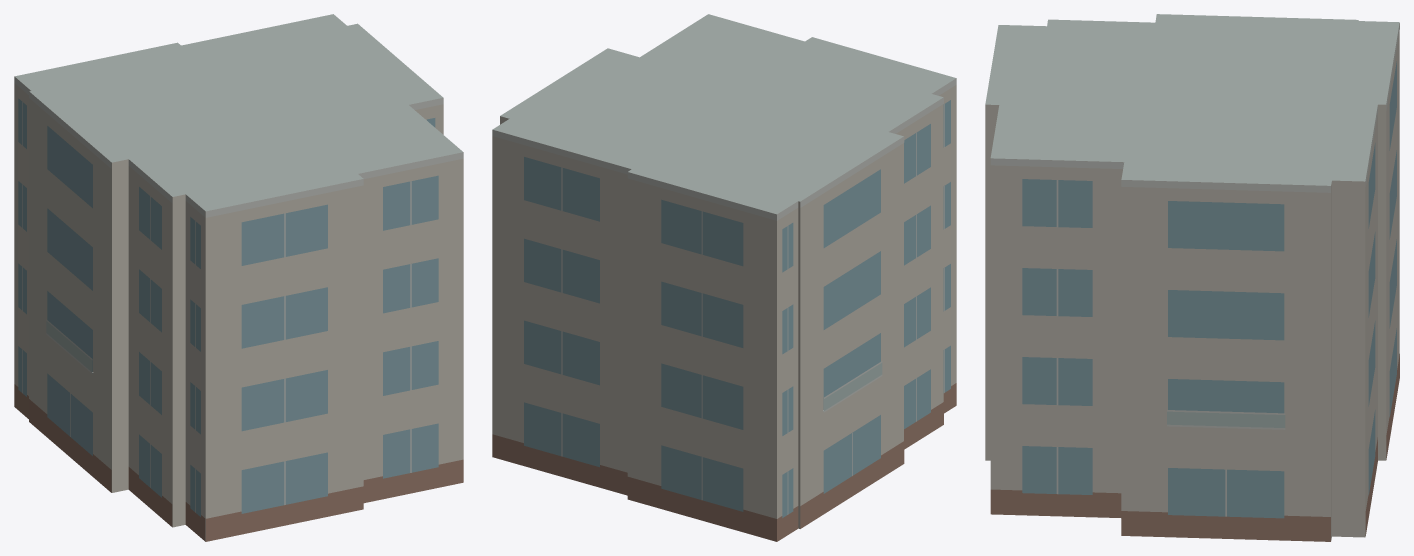
The model's file is survey-upis-32644565.glb.
The picture shows the model from 3 angles, left to right: view 1: azimuth 30°, elevation 25°; view 2: azimuth 150°, elevation 25°; view 3: azimuth 270°, elevation 25°; orthographic projection. The views are drawn at different scales.
Parts seen in each view (by area): view 1: survey-upis-32644565.tmp; view 2: survey-upis-32644565.tmp; view 3: survey-upis-32644565.tmp.
Boxes of the visible parts, x1,y1,x2,y2 form: survey-upis-32644565.tmp: [14, 14, 463, 541]; survey-upis-32644565.tmp: [492, 14, 956, 541]; survey-upis-32644565.tmp: [985, 14, 1399, 541].
Size of the model in its own units: 12.85 by 12.4 by 13.1.
